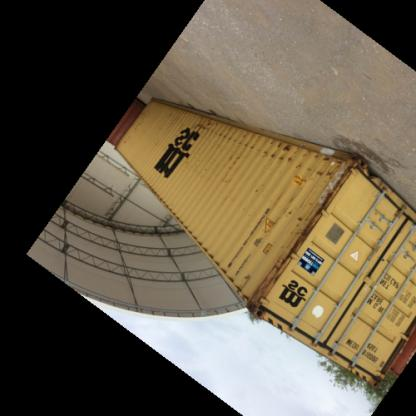Damage: (298, 162, 358, 244), (250, 240, 302, 326)
